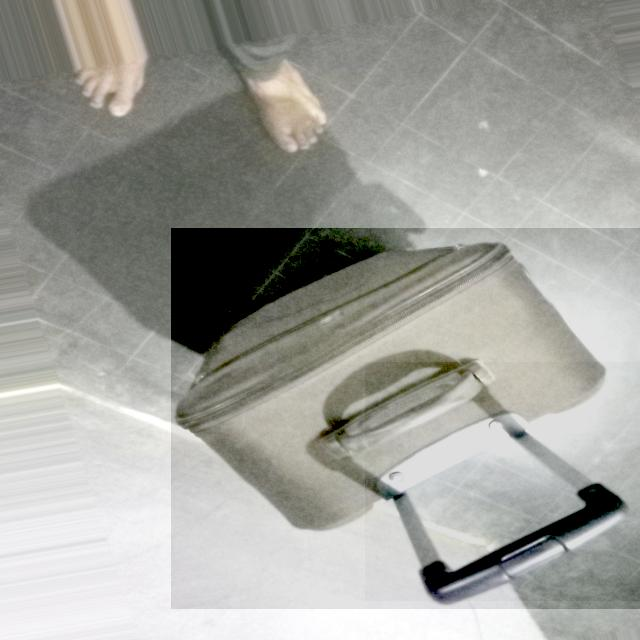Bag: (172, 233, 637, 616)
Handle: (367, 420, 626, 597)
